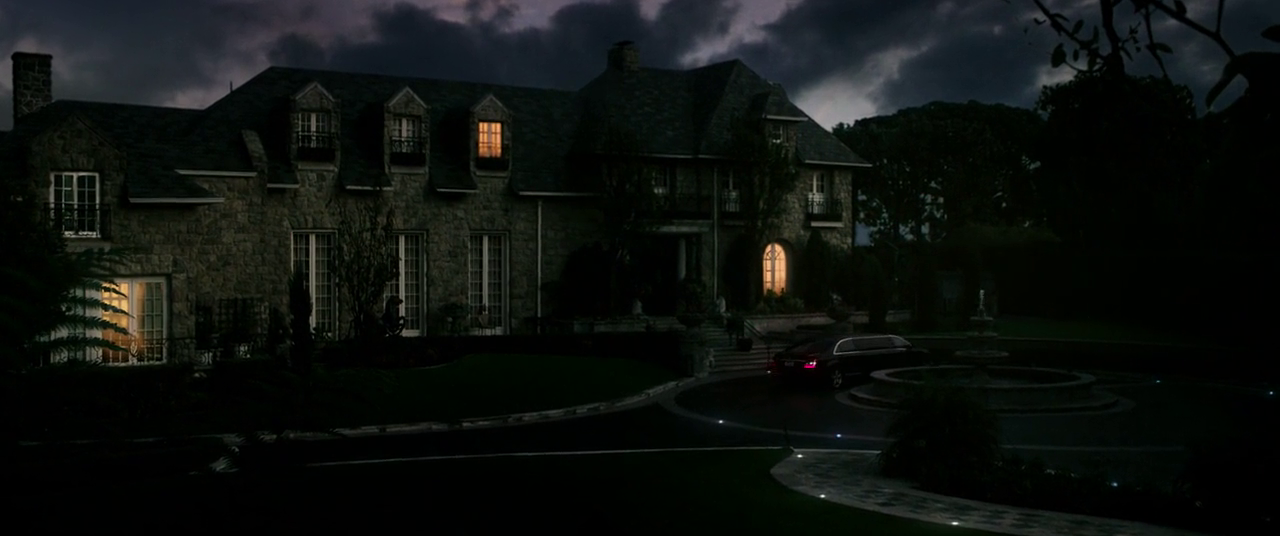car: (761, 320, 951, 405)
